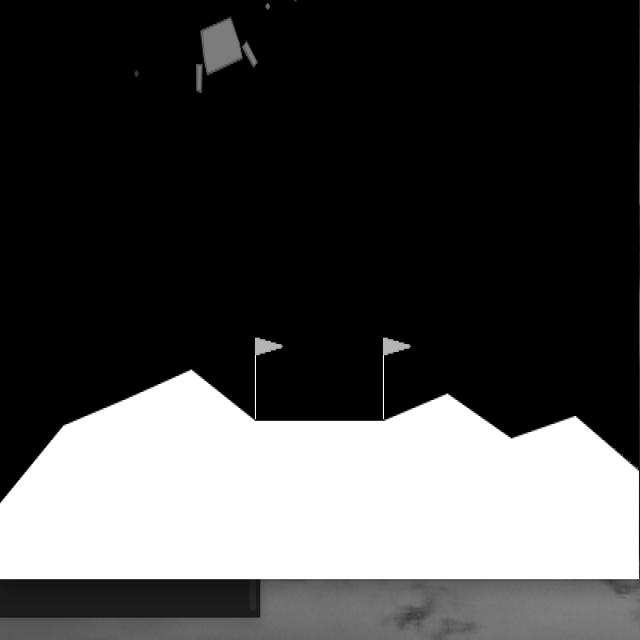lander: (175, 13, 260, 92)
landing_point: (252, 334, 387, 423)
